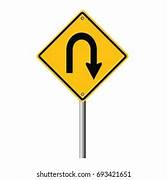back: (36, 9, 128, 101)
